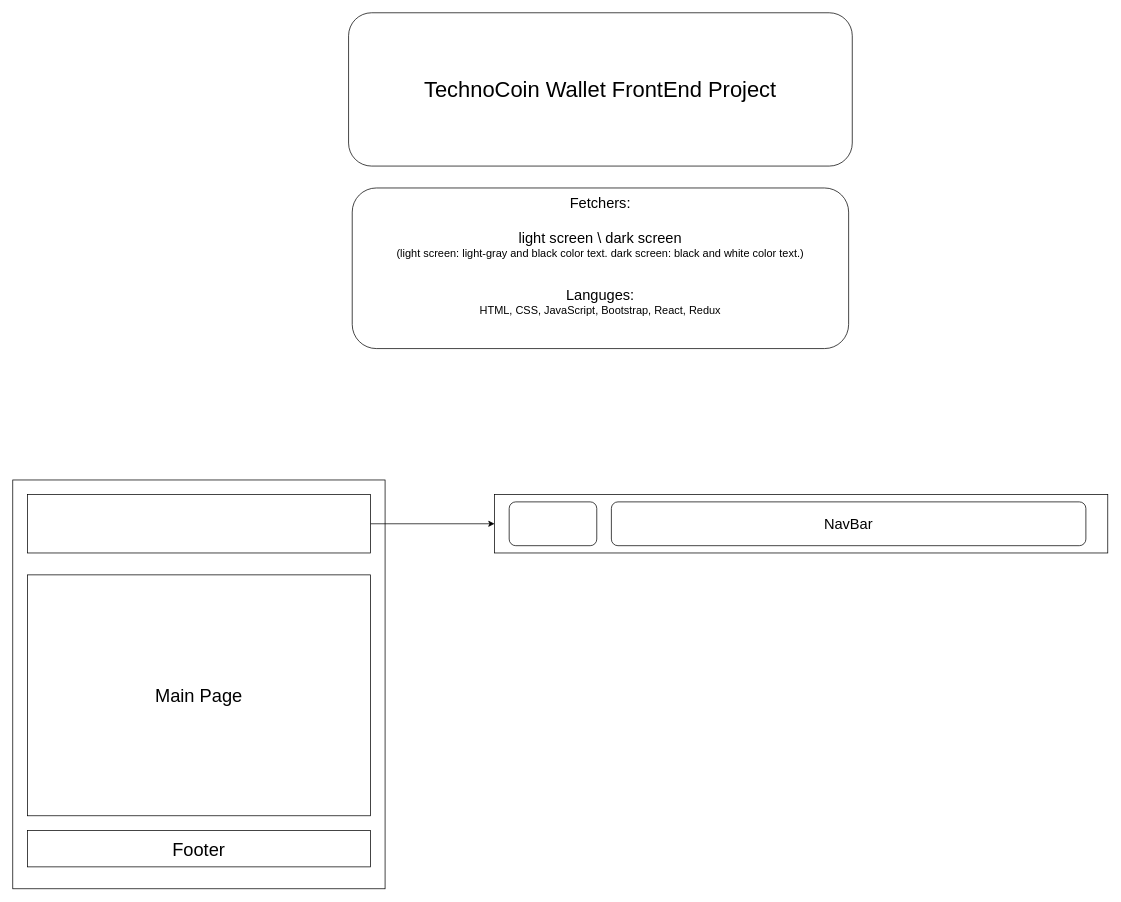
The diagram is 1121 pixels wide and 902 high, and some of its shapes have lost their labels. Here are the shapes that lost their labels. From the top down, the box of each, then its label:
(27, 494, 370, 553): Menu
(508, 501, 597, 546): Logo
